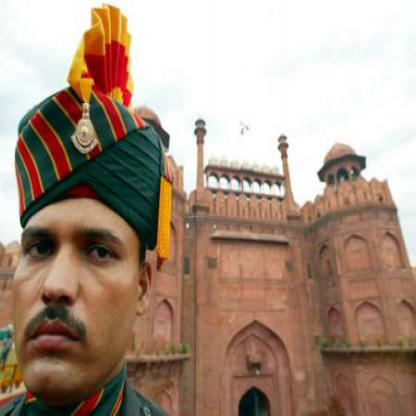face: (4, 147, 142, 415)
